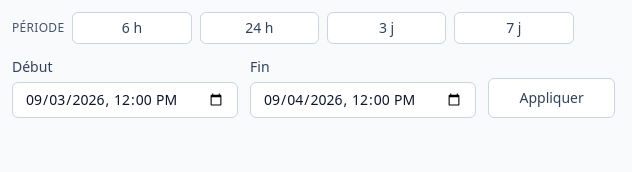
TimeRangePicker · bornes explicites › refuse des bornes inversées avant d'appeler l'API
Replace the text in the field labelled "Début" with "2026-09-02T20:00": (125, 100) [12,82,238,118]
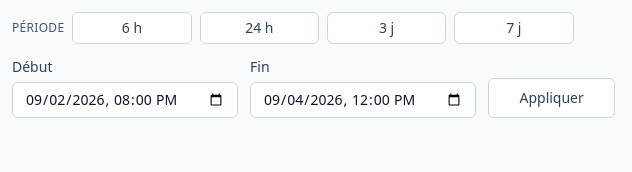
Replace the text in the field labelled "Fin" with "2026-09-02T08:00": (363, 100) [250,82,476,118]
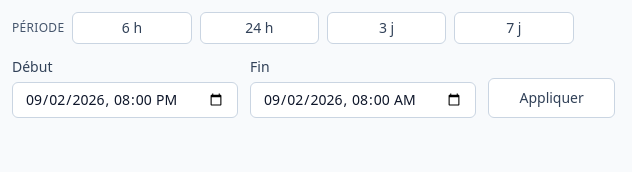
Click the button "Appliquer": (552, 98) [488,78,615,118]
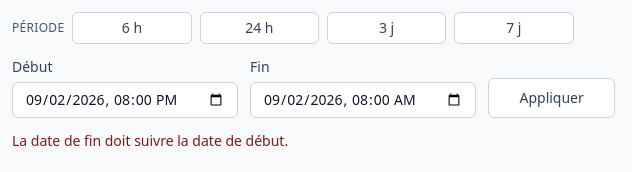
Expected: the message reads "La date de fin doit suivre la date de début.", [12,131,288,150]
